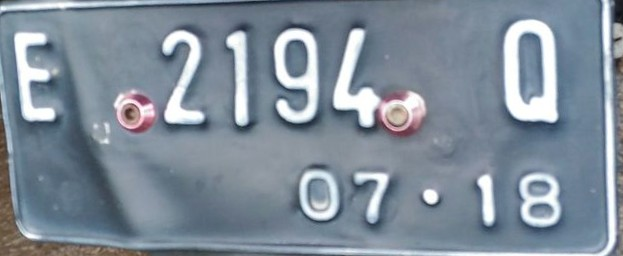plate: (1, 3, 618, 256)
